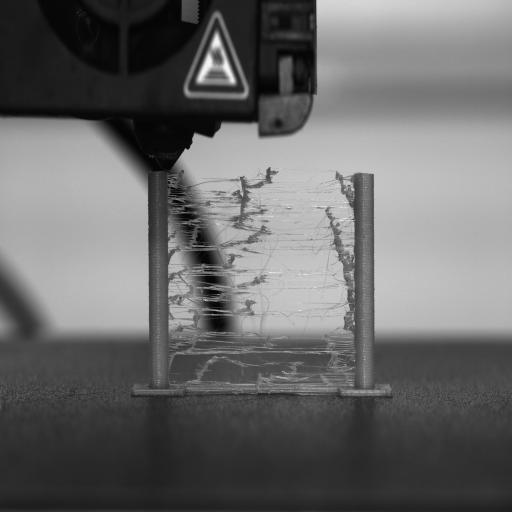spaghetti_and_stringing: (166, 171, 356, 387)
